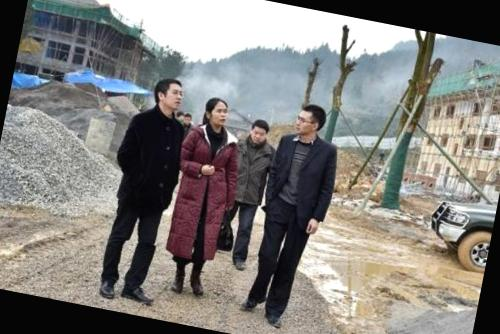no_helmet: (149, 72, 190, 118), (292, 100, 330, 142), (200, 92, 234, 132), (244, 115, 274, 149)
